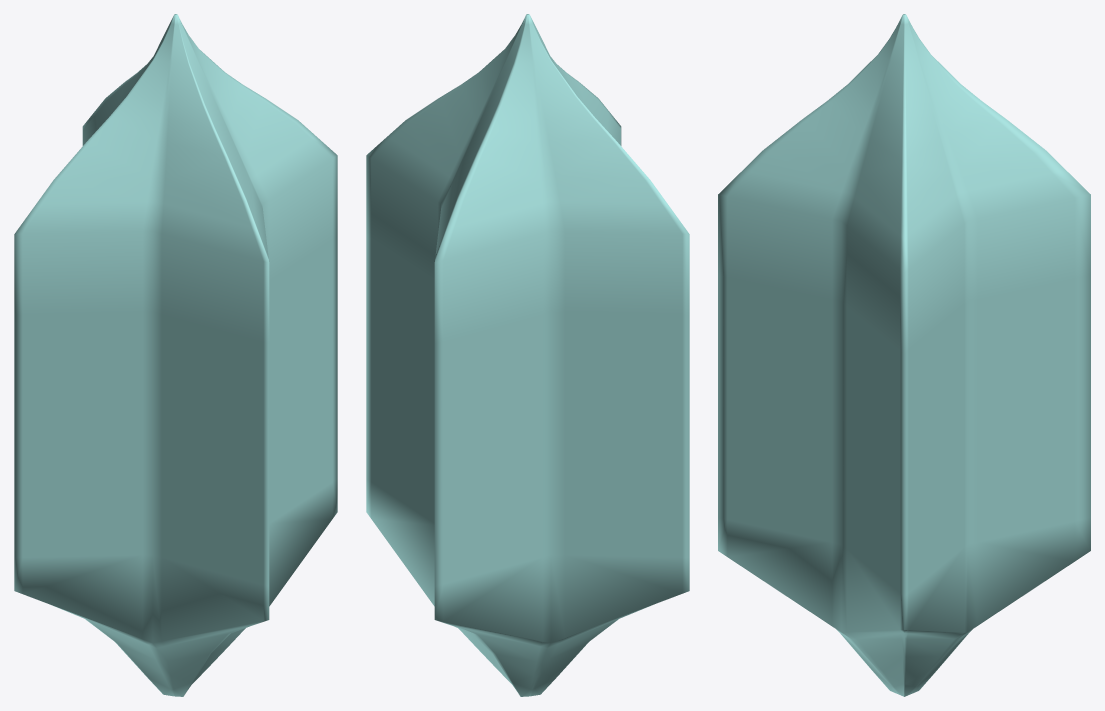
Rendered from ice_crystal.glb.
3 views of the same model, side by side, from view 1: azimuth 30°, elevation 25°; view 2: azimuth 150°, elevation 25°; view 3: azimuth 270°, elevation 25° (orthographic).
Parts seen in each view (by area): view 1: Cylinder; view 2: Cylinder; view 3: Cylinder.
Part boxes in pixels (x1,y1,x2,y2): Cylinder: (14,14,337,696); Cylinder: (366,14,689,696); Cylinder: (718,14,1090,696).
Size of the model in its own units: 1.61 by 3.24 by 1.61.
